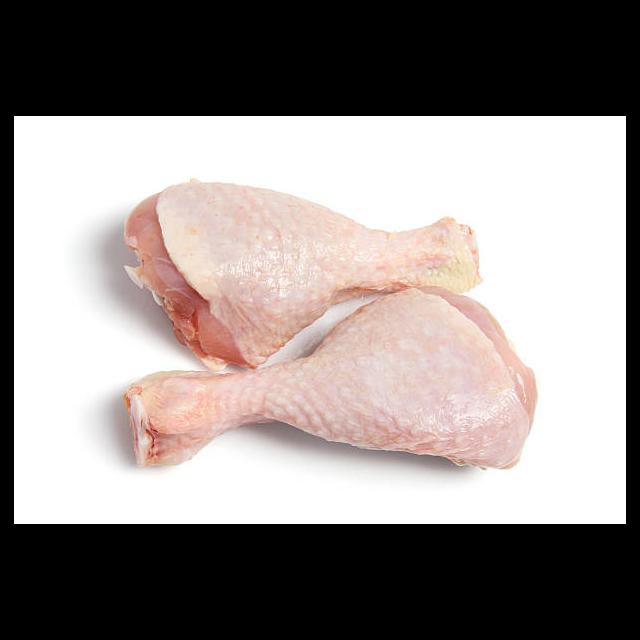chicken: (119, 290, 540, 476), (124, 183, 484, 369)
